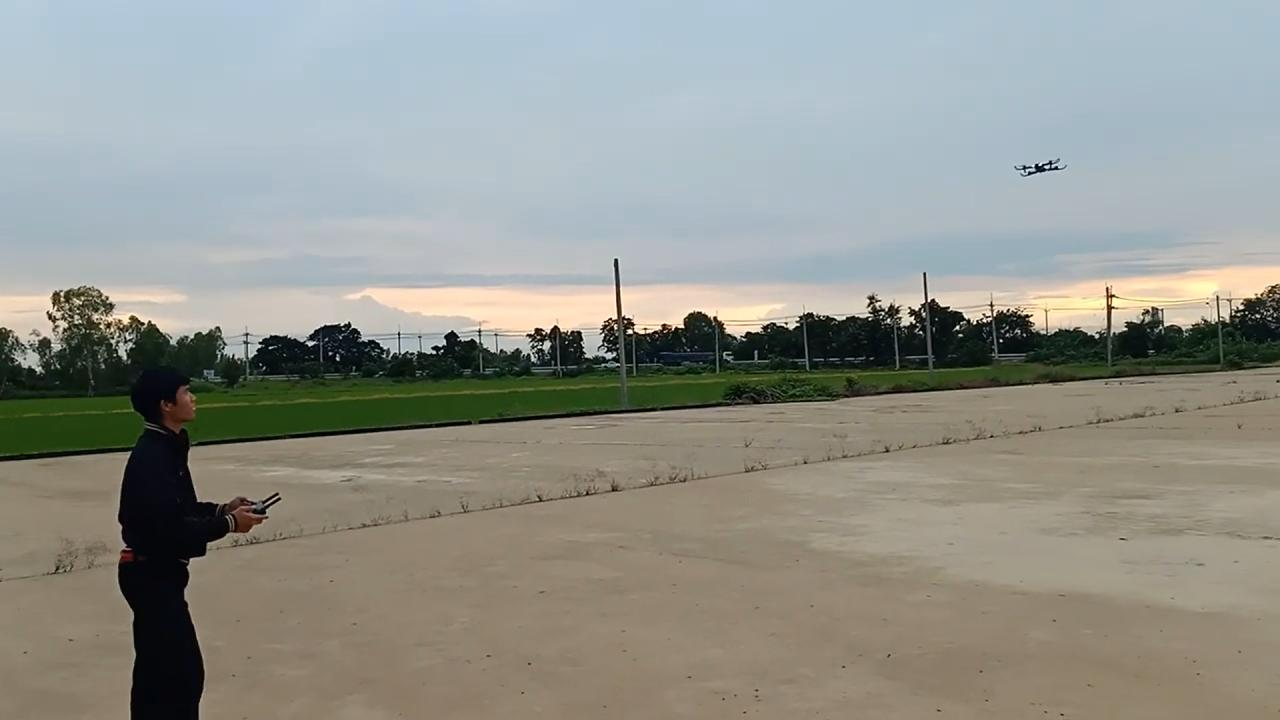Drone: (1004, 146, 1076, 191)
